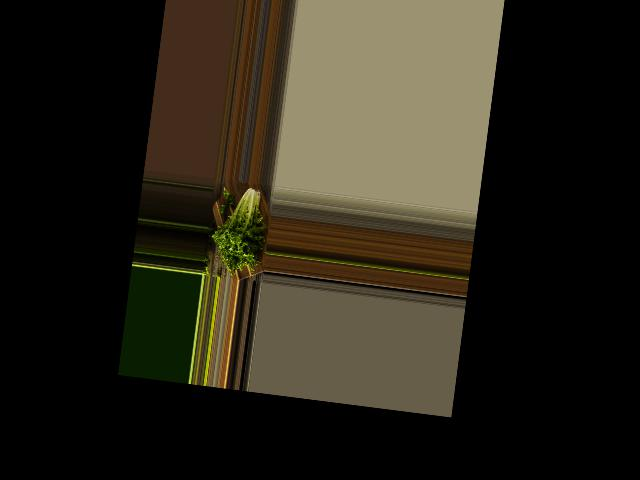lettuce: (209, 179, 272, 274)
